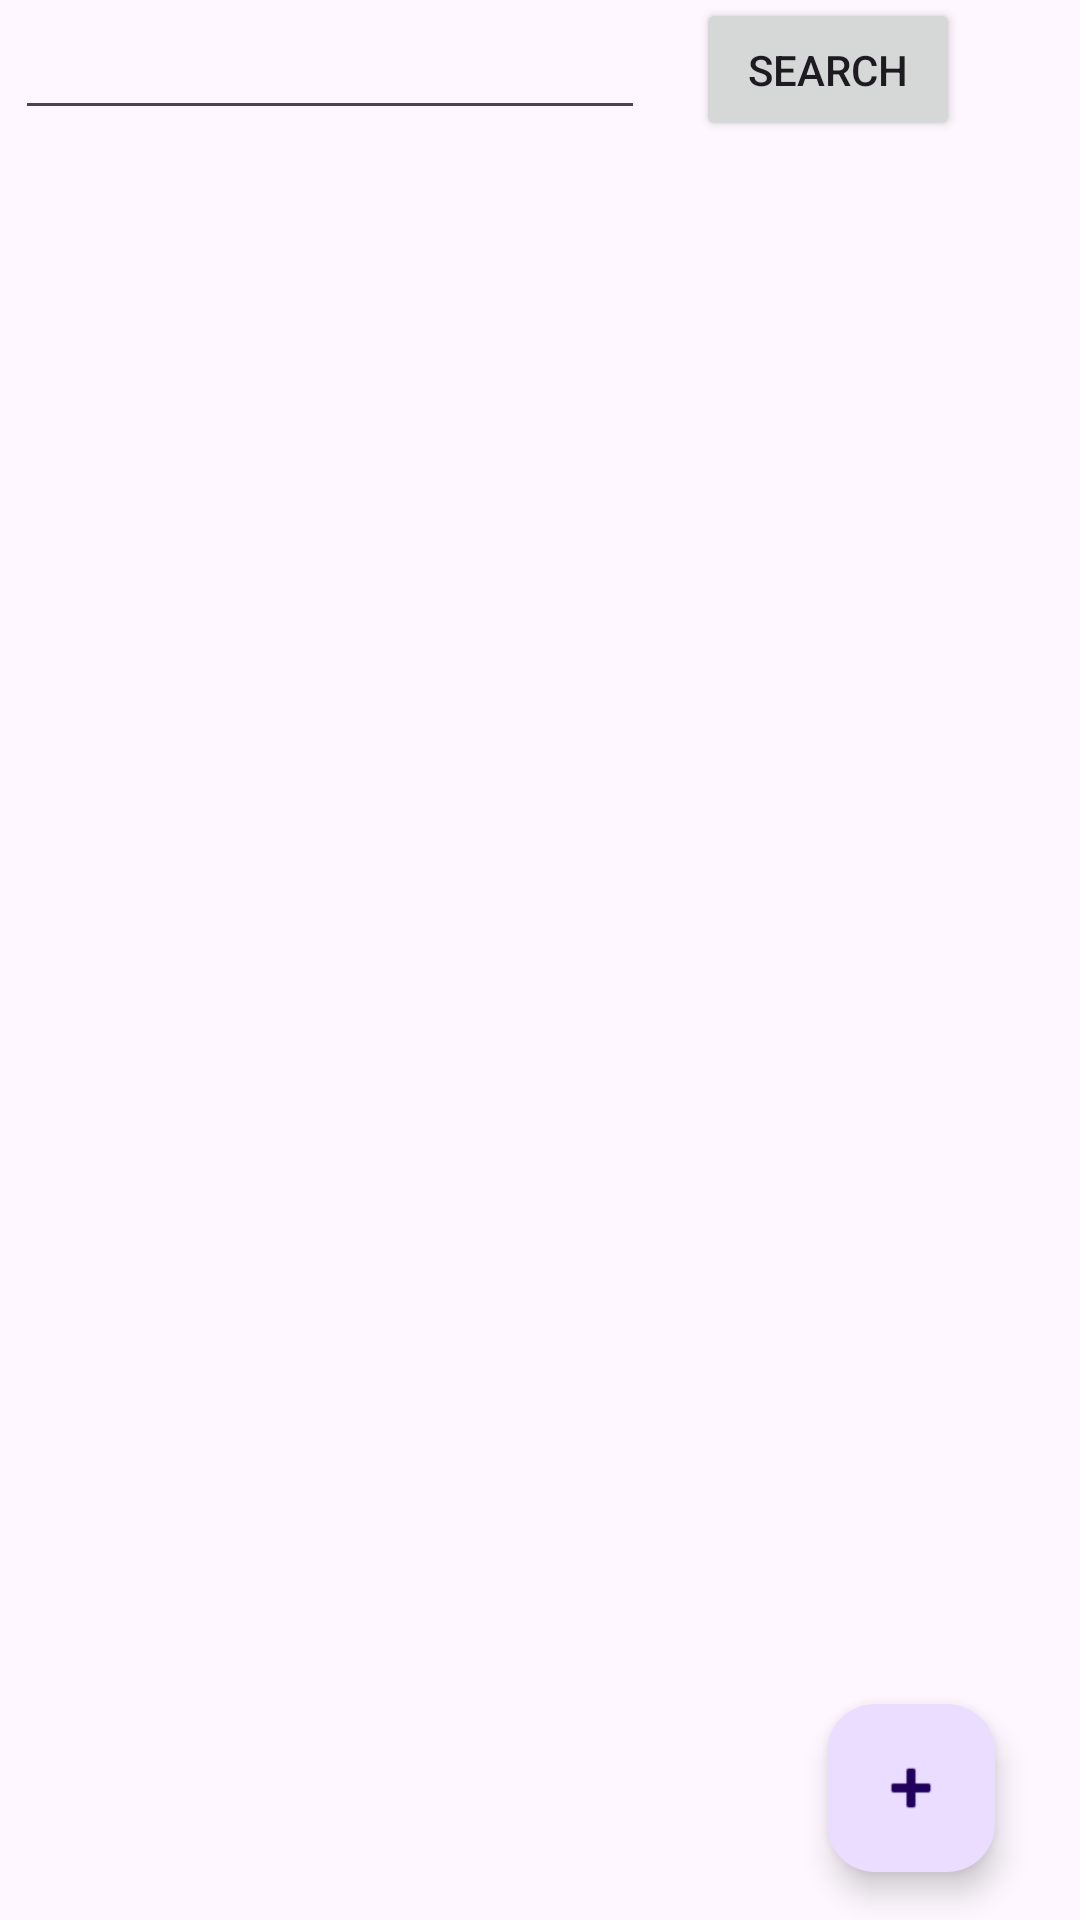

Icons on this 1080x1920 Android screen, each with its box as (x1, y1, x2, y2):
add: (827, 1704, 995, 1872)
